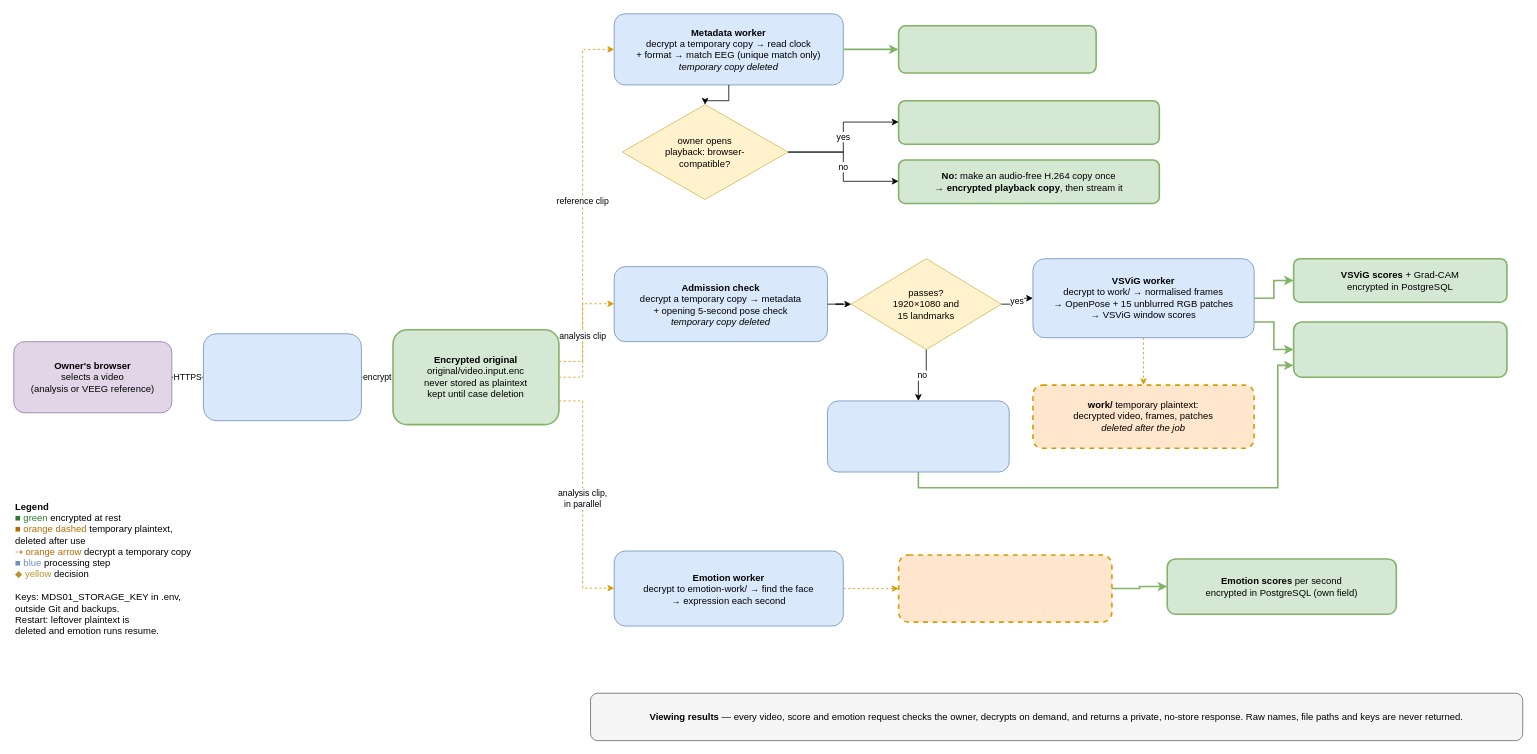
Image size: 1537x754. Some labels were removed from this diagram. The shapes that lost their labels are listed below. From the top down, each one's centre as x and y in pixels, then its label:
At point 997,48: "Sync anchors + offsets encrypted in PostgreSQL".
At point 1028,122: "Yes: decrypt only the requested byte ranges (chunk AES-GCM) → private stream".
At point 1399,349: "Review video audio-free H.264 encrypted file (retained/)".
At point 282,377: "FastAPI stream the upload and AES-GCM encrypt it, then acknowledge".
At point 918,436: "No: review copy only audio-free H.264 → encrypted job ends with the reason".
At point 1004,588: "emotion-work/ temporary plaintext no face images written deleted after each run".
